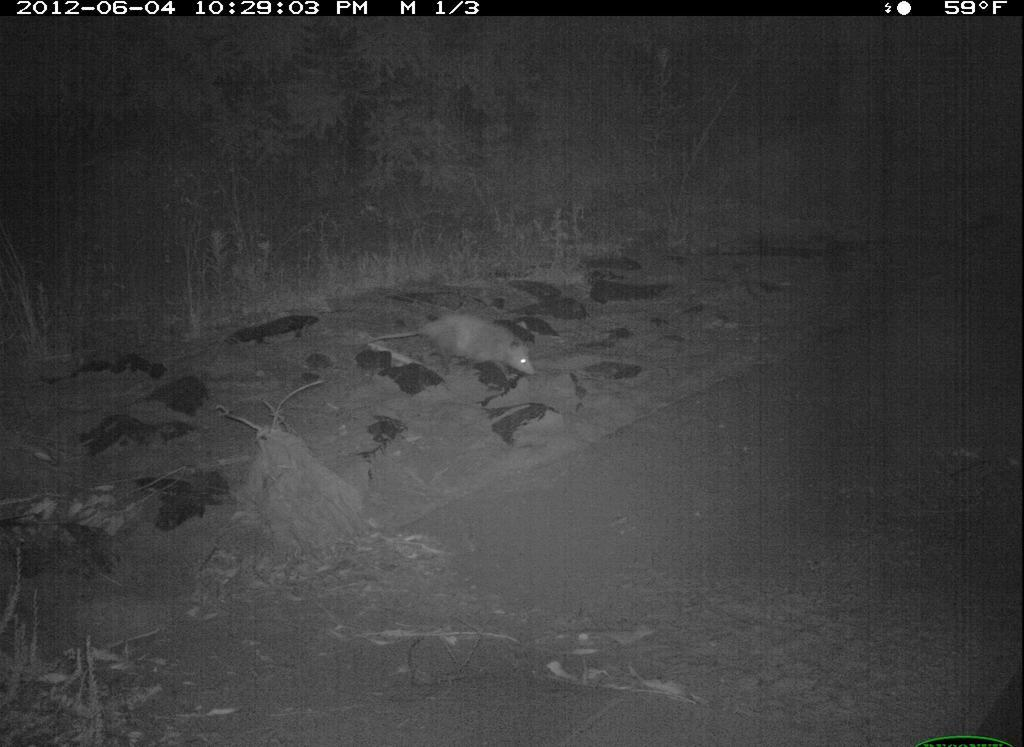opossum: (374, 305, 545, 381)
